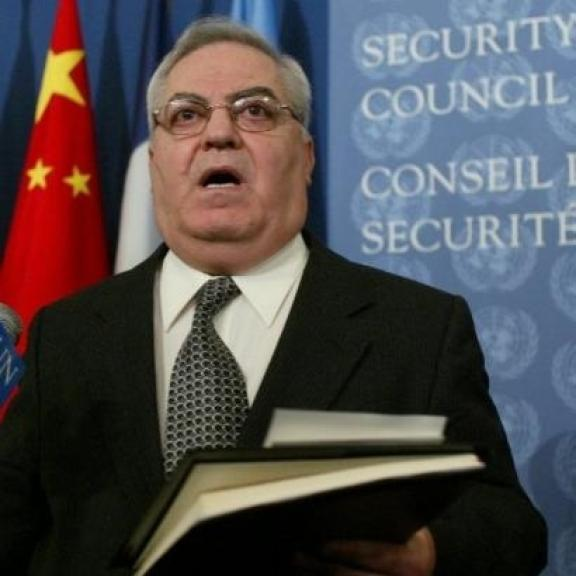face: (144, 29, 319, 256)
